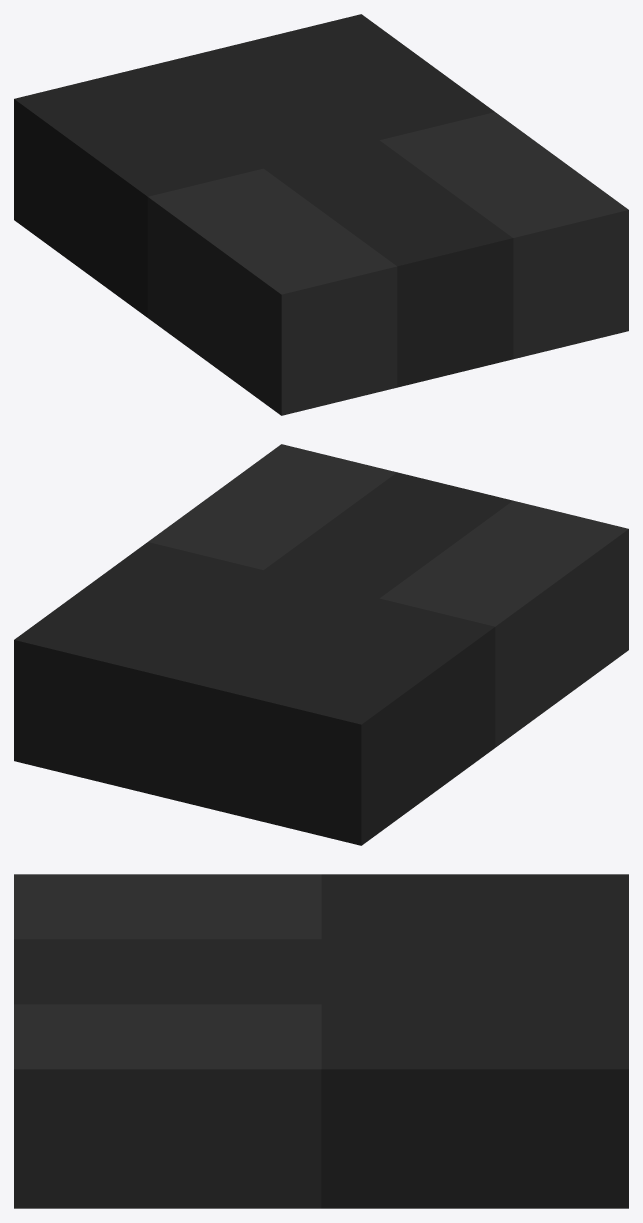
Rendered from computer_mouse.glb.
3 views of the same model, one above another, from view 1: azimuth 30°, elevation 25°; view 2: azimuth 150°, elevation 25°; view 3: azimuth 270°, elevation 25° (orthographic). The views are drawn at different scales.
Visible parts, largest first — view 1: Untitled; view 2: Untitled; view 3: Untitled.
Boxes of the visible parts, x1=… form: Untitled: x1=14, y1=14, x2=628, y2=415; Untitled: x1=14, y1=444, x2=628, y2=845; Untitled: x1=14, y1=874, x2=628, y2=1208.
Bounding box in the file's own units: 0.09 × 0.03 × 0.12.
1 material, 1 textured.
